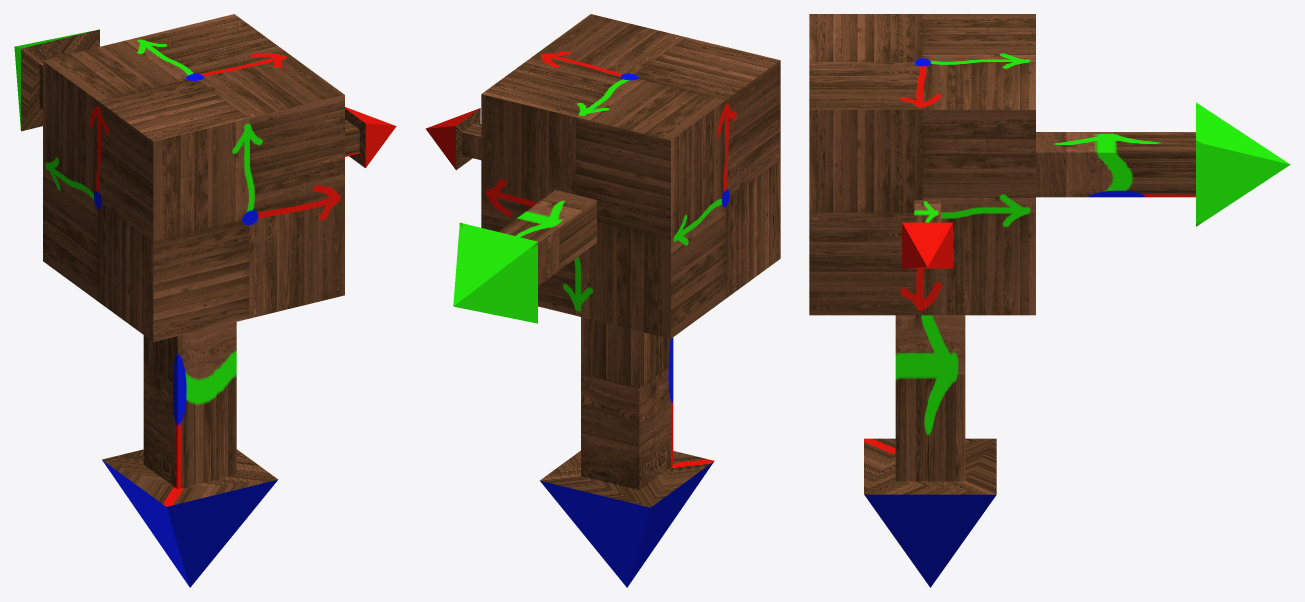
Rendered from debug_object_1.dae.
The picture shows the model from 3 angles, left to right: view 1: azimuth 30°, elevation 25°; view 2: azimuth 150°, elevation 25°; view 3: azimuth 270°, elevation 25°; orthographic projection. The views are drawn at different scales.
Parts seen in each view (by area): view 1: debug_object_1; view 2: debug_object_1; view 3: debug_object_1.
Part boxes in pixels (left/top/right/bottom): debug_object_1: left=14, top=14, right=396, bottom=587; debug_object_1: left=426, top=14, right=780, bottom=587; debug_object_1: left=809, top=14, right=1290, bottom=587.
Size of the model in its own units: 3.14 by 4.25 by 5.12.
